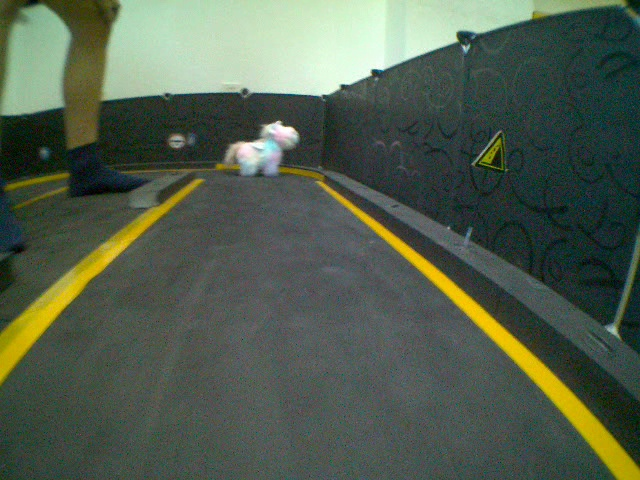unicorn: (224, 118, 300, 179)
